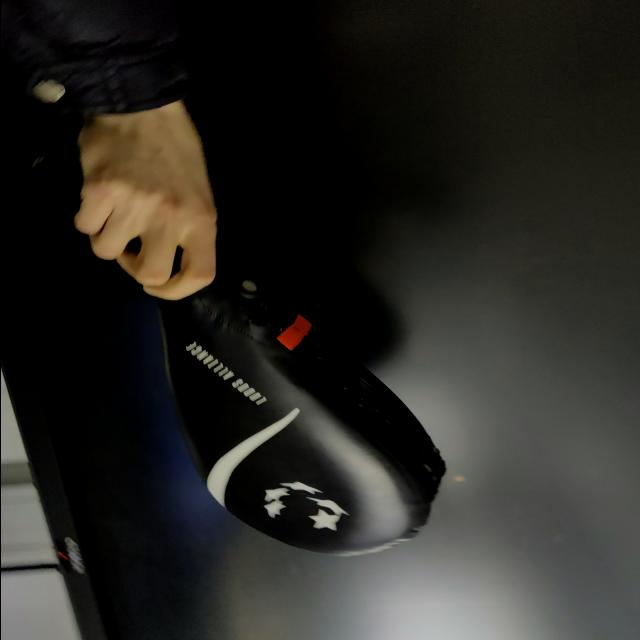paddle: (28, 138, 445, 560)
